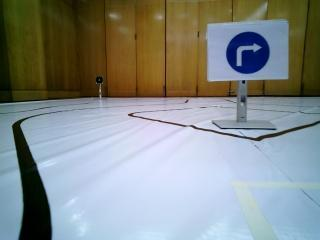right: (207, 21, 289, 81)
